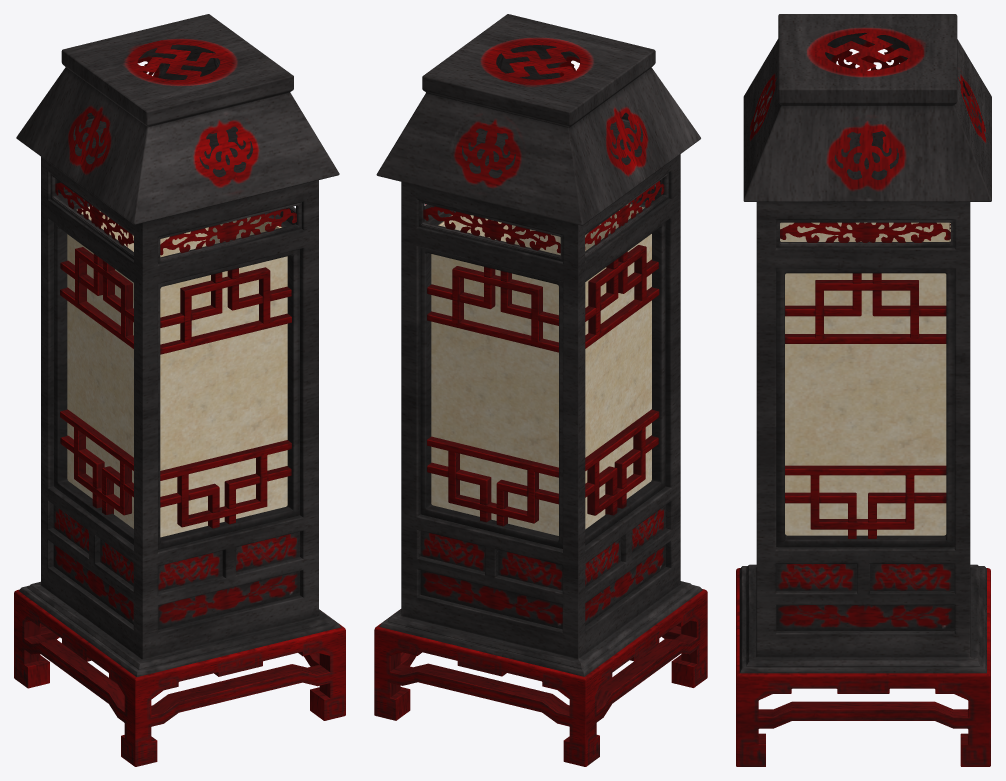
Rendered from SM_GJJ_LightA.fbx.
The picture shows the model from 3 angles, left to right: view 1: azimuth 30°, elevation 25°; view 2: azimuth 150°, elevation 25°; view 3: azimuth 270°, elevation 25°; orthographic projection. The views are drawn at different scales.
Visible parts, largest first — view 1: SM_GJJ_LightA; view 2: SM_GJJ_LightA; view 3: SM_GJJ_LightA.
Part boxes in pixels (bbox=[...]): SM_GJJ_LightA: bbox=[14, 14, 345, 766]; SM_GJJ_LightA: bbox=[374, 14, 707, 766]; SM_GJJ_LightA: bbox=[736, 14, 991, 766].
Size of the model in its own units: 37.45 by 107 by 37.56.
1 material, 1 textured.
